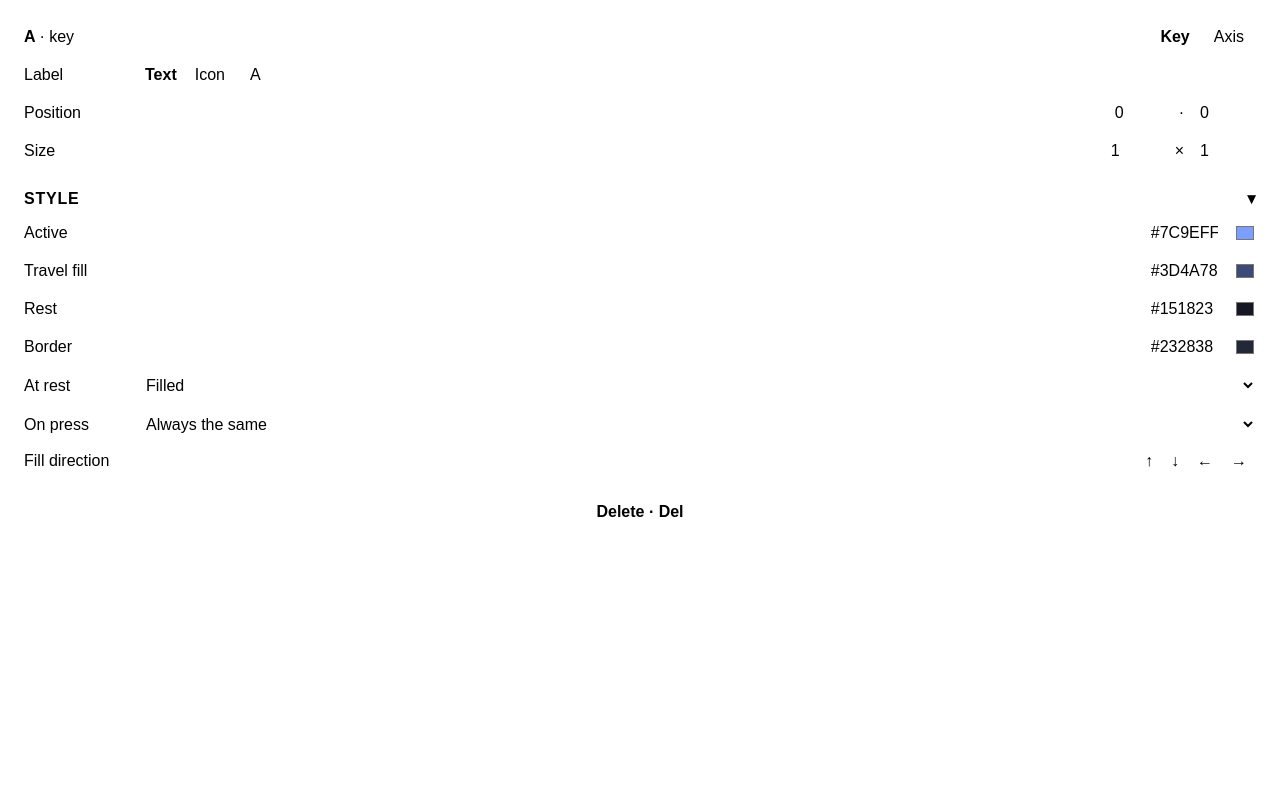
Scenario: KeyPopover - the Style block › takes a hex typed into the field, hash or no hash
The width and height of the screenshot is (1280, 800).
Replace the text in the field named "Active hex code" with "FF00AA" at (1184, 233), box [1143,220,1226,246]
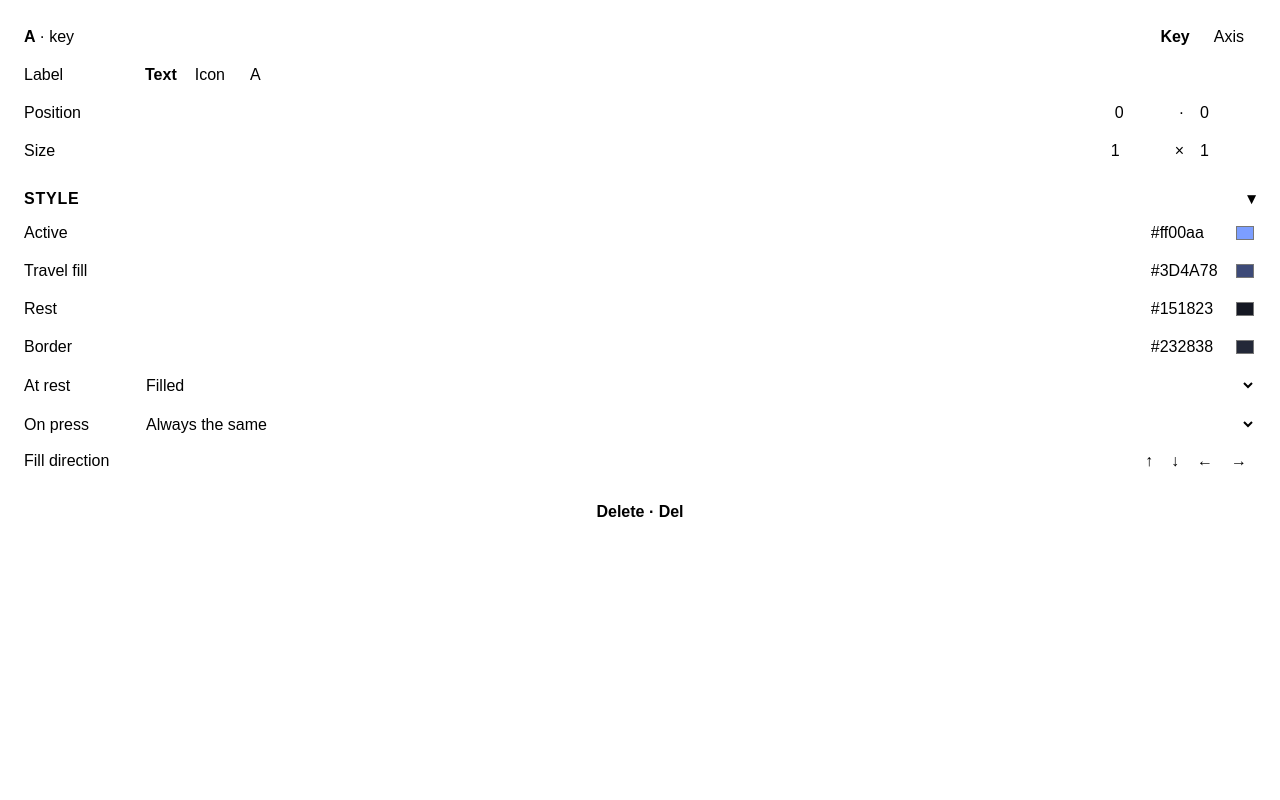
Result: the field named "Active hex code" holds "#ff00aa" at [1143,220,1226,246]
